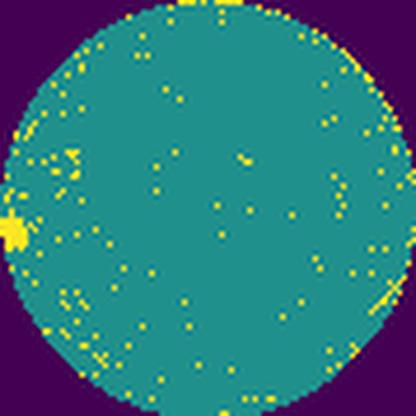Loc: (0, 208, 32, 256)
